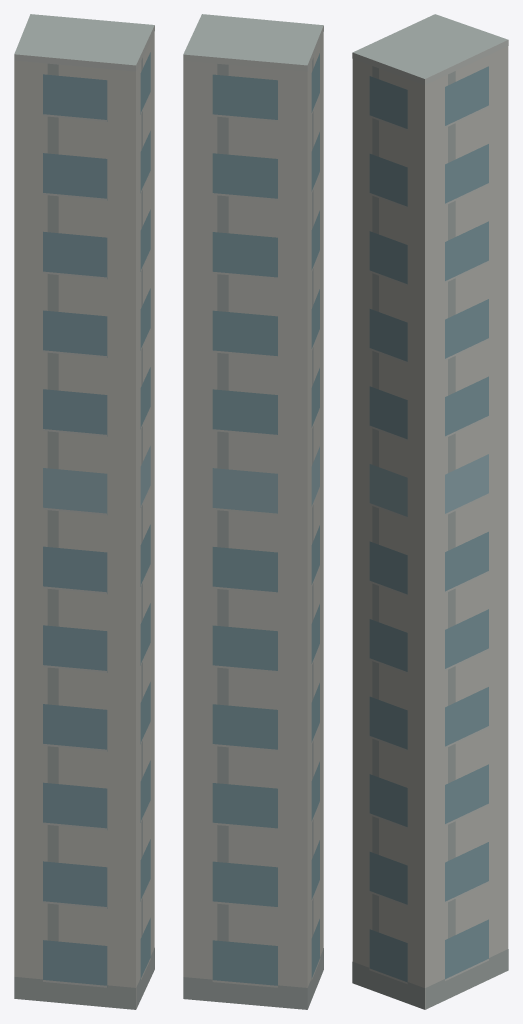
Rendered from survey-upis-32997231.glb.
3 views of the same model, side by side, from view 1: azimuth 30°, elevation 25°; view 2: azimuth 210°, elevation 25°; view 3: azimuth 270°, elevation 25° (orthographic).
Visible parts, largest first — view 1: survey-upis-32997231.tmp; view 2: survey-upis-32997231.tmp; view 3: survey-upis-32997231.tmp.
Part boxes in pixels (x1,y1,x2,y2): survey-upis-32997231.tmp: (14,14,154,1009); survey-upis-32997231.tmp: (183,14,323,1009); survey-upis-32997231.tmp: (352,14,508,1009).
Bounding box in the file's own units: 5.5 × 36.6 × 5.56.
